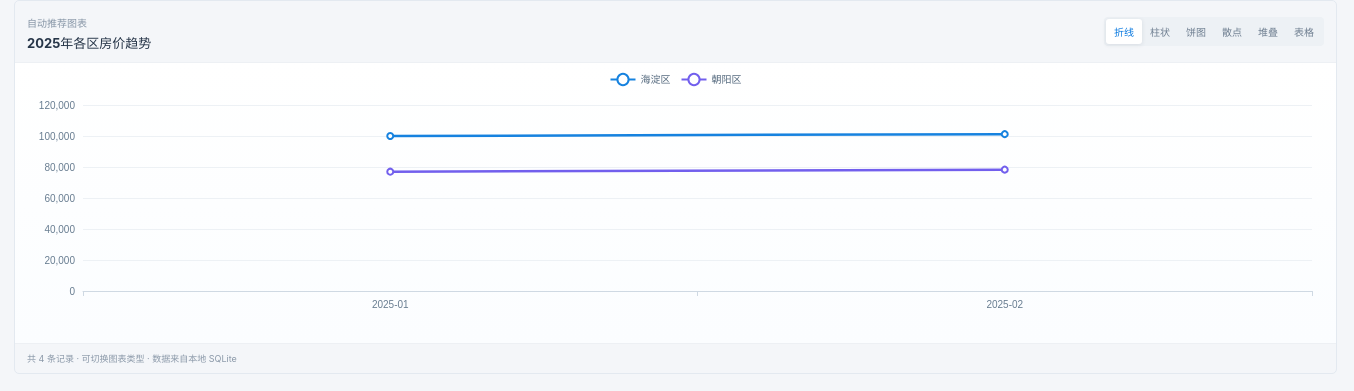
keeps table rows visible after switching away from ECharts
Click the button "柱状": (1160, 32) left=1142, top=19, right=1178, bottom=44
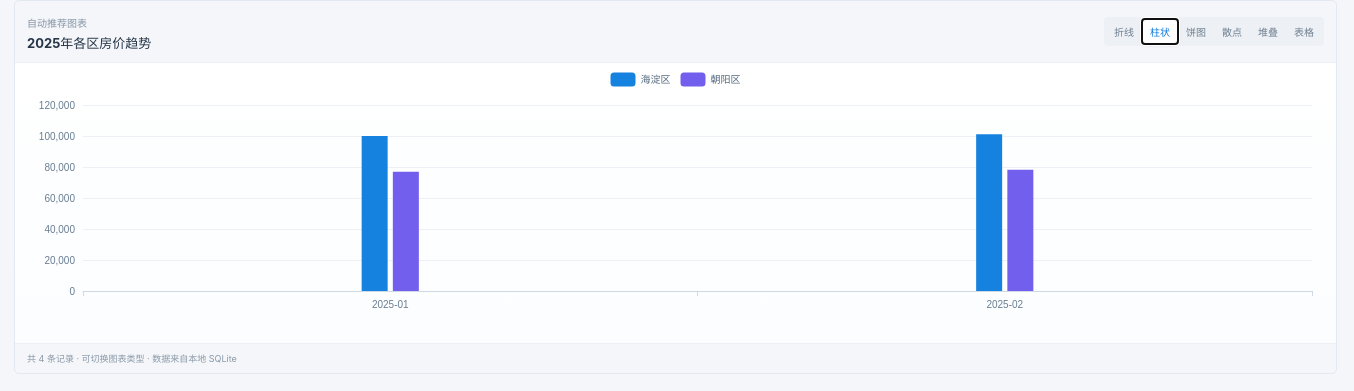
Click the button "表格": (1304, 32) left=1286, top=19, right=1322, bottom=44
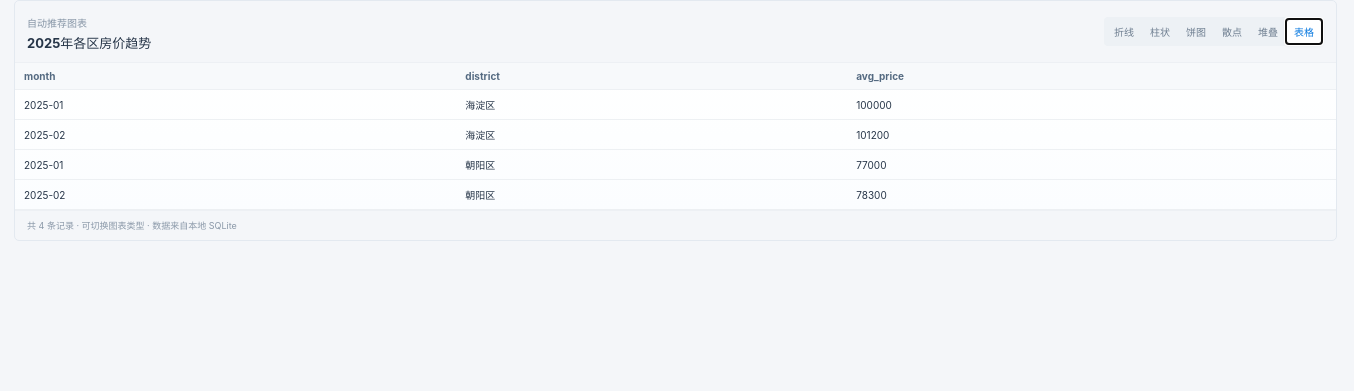
Expected: the table shows "avg_price", left=856, top=70, right=904, bottom=82
Expected: the table shows "100000", left=856, top=98, right=892, bottom=110
